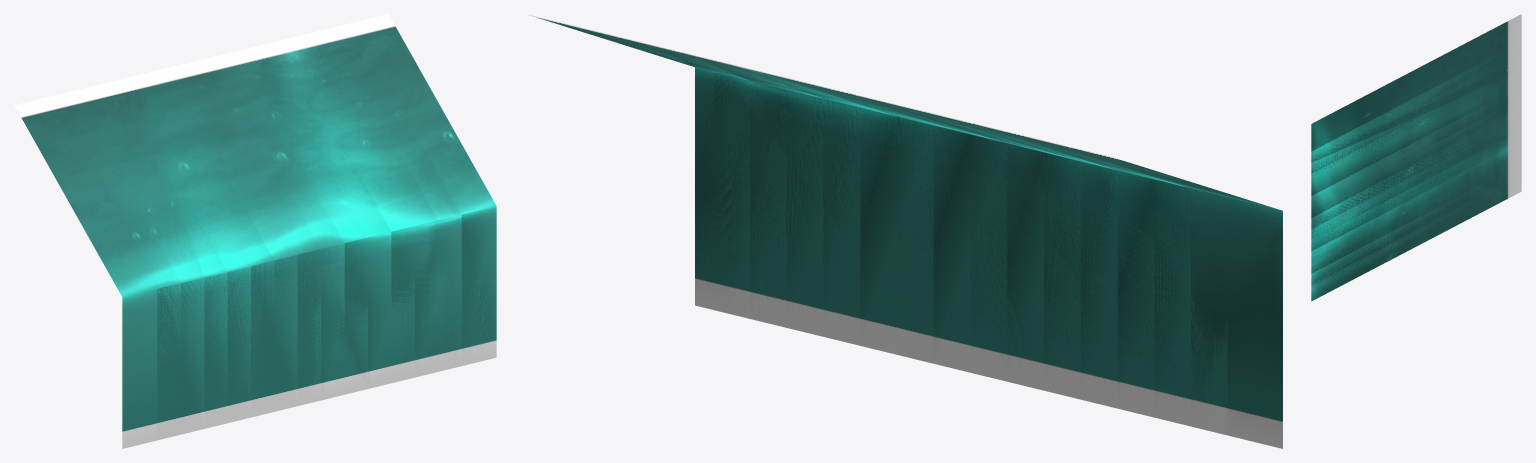
The model's file is Water Surface Loop Low.FBX.
3 views of the same model, side by side, from view 1: azimuth 30°, elevation 25°; view 2: azimuth 150°, elevation 25°; view 3: azimuth 270°, elevation 25° (orthographic). The views are drawn at different scales.
Visible parts, largest first — view 1: Water Loopable Shore Start Low, Water Loopable Low, Water Loopable Shore End Low; view 2: Water Loopable Shore Start Low, Water Loopable Low, Water Loopable Shore End Low; view 3: Water Loopable Shore Start Low, Water Loopable Shore End Low, Water Loopable Low.
Part boxes in pixels (x1,y1,x2,y2): Water Loopable Shore Start Low: (100,14,496,448); Water Loopable Low: (14,14,496,447); Water Loopable Shore End Low: (15,38,496,447); Water Loopable Shore Start Low: (529,15,1282,448); Water Loopable Low: (534,16,1282,447); Water Loopable Shore End Low: (660,47,1282,447); Water Loopable Shore Start Low: (1311,56,1521,301); Water Loopable Shore End Low: (1311,15,1521,285); Water Loopable Low: (1311,14,1521,300).
Bounding box in the file's own units: 400 × 200 × 270.
